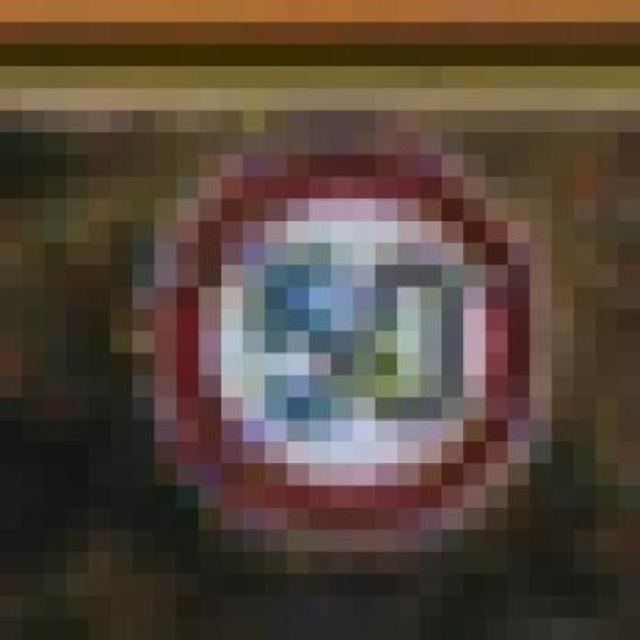forb_speed_over_50: (155, 151, 535, 532)
